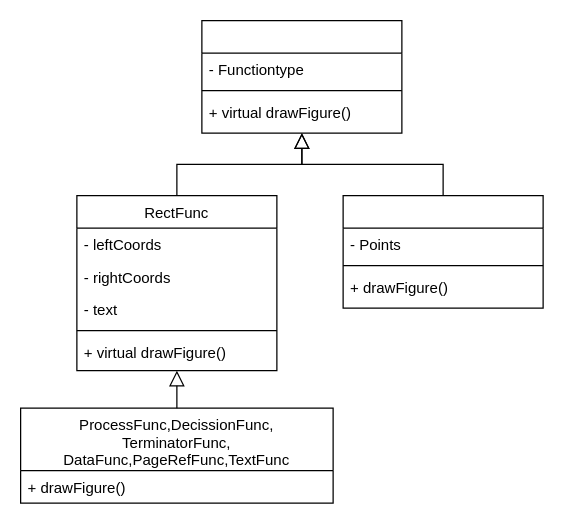
This 564x524 diagram has some shape labels left out. Each missing label, with the box of its shape:
AbstractFigure: (201, 19, 402, 133)
LineFunc: (342, 194, 543, 308)
